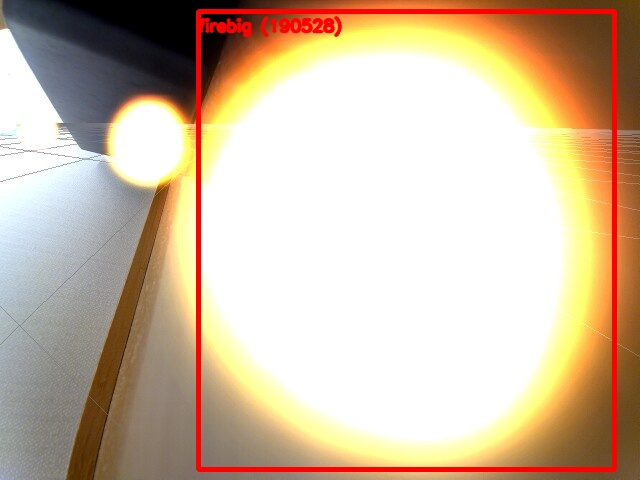firebig: (198, 11, 614, 469)
